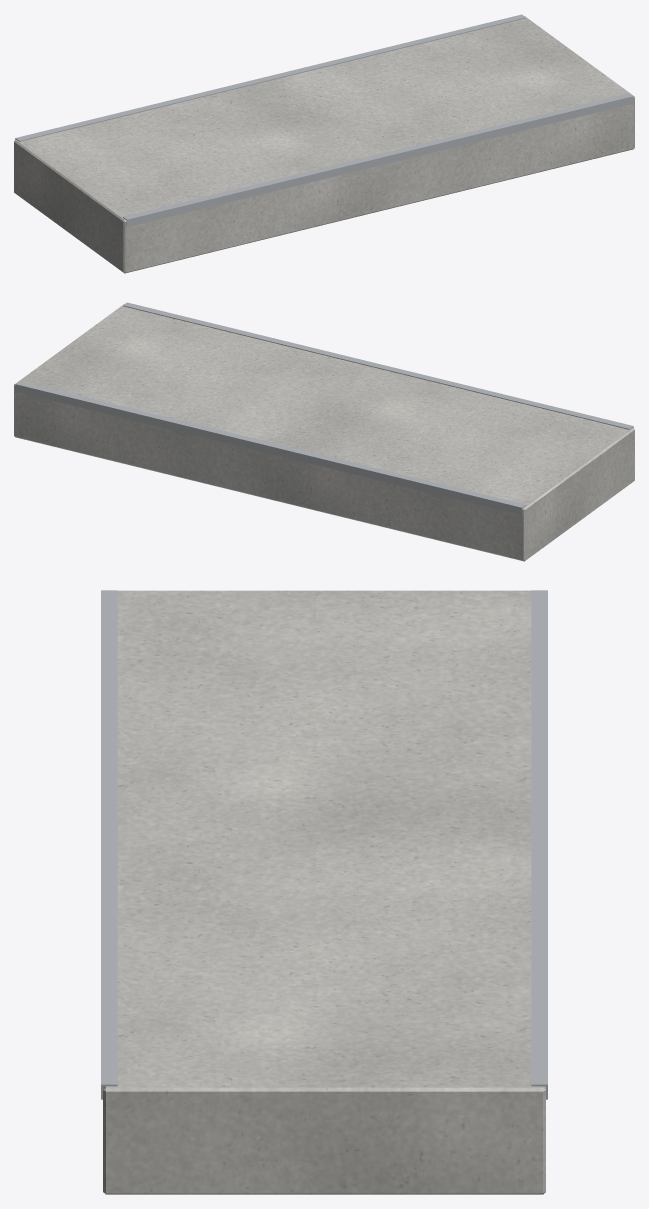
The model's file is manual_pad.glb.
3 views of the same model, one above another, from view 1: azimuth 30°, elevation 25°; view 2: azimuth 150°, elevation 25°; view 3: azimuth 270°, elevation 25° (orthographic). The views are drawn at different scales.
Parts seen in each view (by area): view 1: manual_pad_concrete, manual_pad_steel; view 2: manual_pad_concrete, manual_pad_steel; view 3: manual_pad_concrete, manual_pad_steel.
Part boxes in pixels (left/top/right/bottom): manual_pad_concrete: left=14, top=16, right=634, bottom=273; manual_pad_steel: left=15, top=14, right=633, bottom=226; manual_pad_concrete: left=14, top=304, right=634, bottom=561; manual_pad_steel: left=15, top=302, right=633, bottom=514; manual_pad_concrete: left=103, top=590, right=545, bottom=1194; manual_pad_steel: left=101, top=590, right=547, bottom=1099.
Size of the model in its own units: 4 by 0.406 by 1.51.
2 materials, 1 textured.
